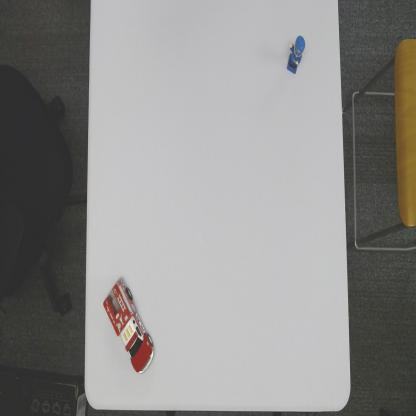Firetruck: (102, 276, 154, 376)
